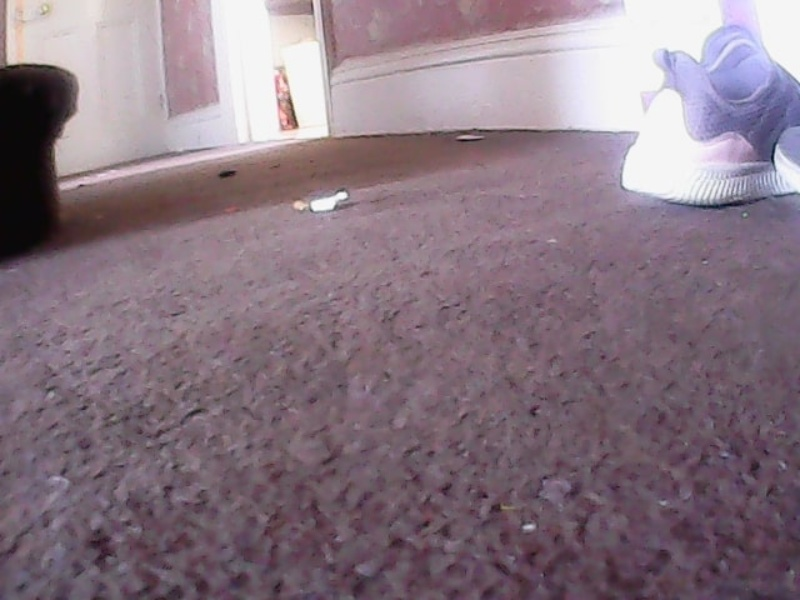cig: (289, 191, 354, 215)
